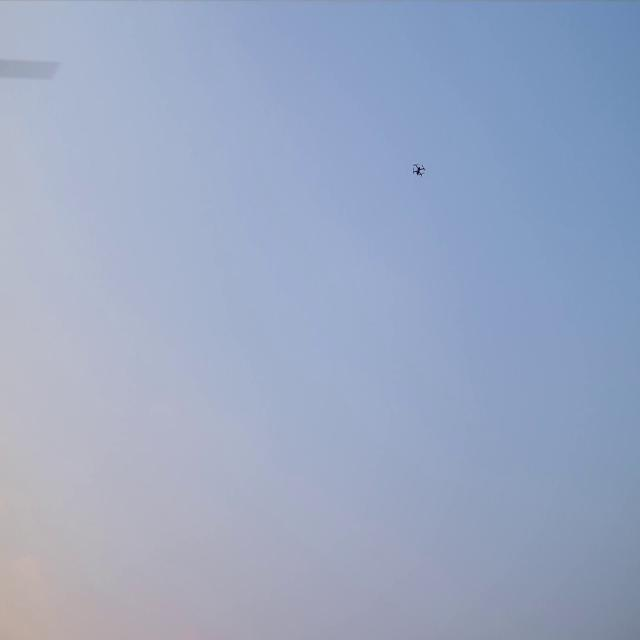UAV: (413, 165, 424, 175)
